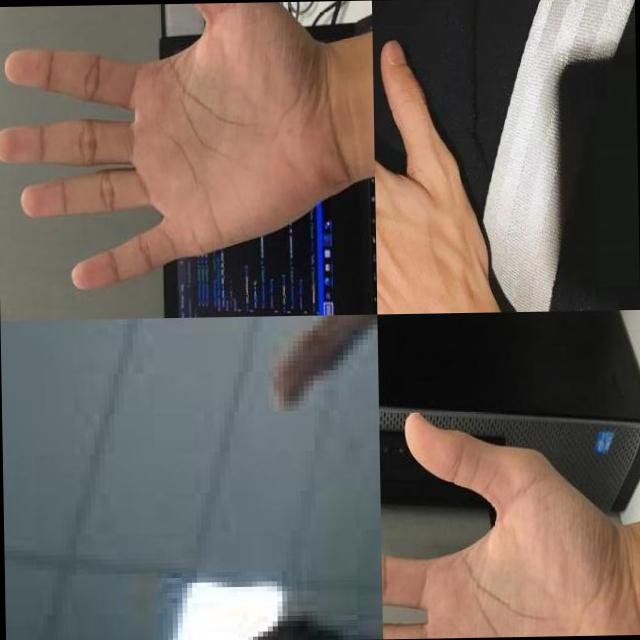Nail: (381, 39, 406, 64)
